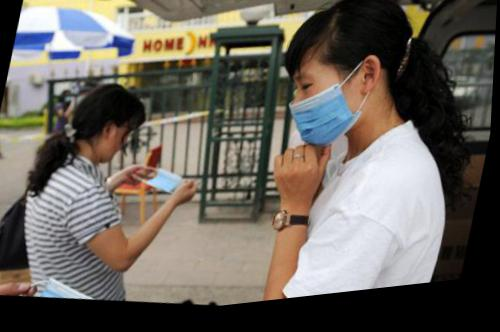WRONG: (283, 65, 377, 163)
